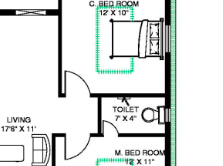door: (63, 67, 94, 105), (63, 129, 93, 163)
